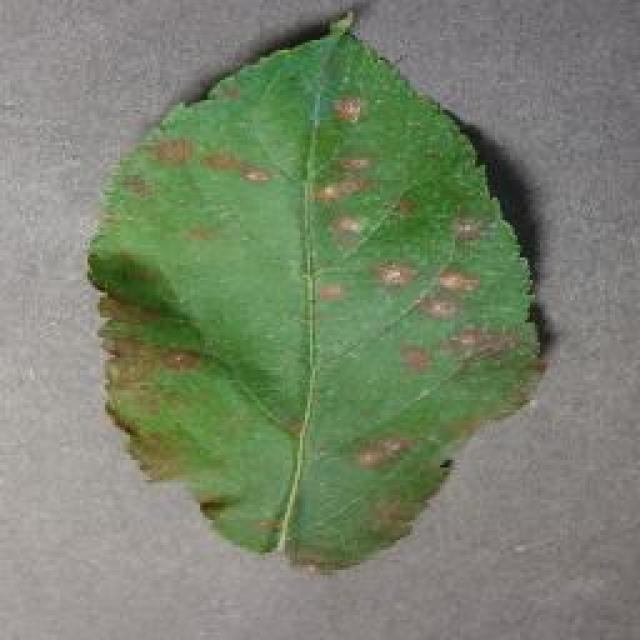apple scab disease: (85, 8, 547, 572)
